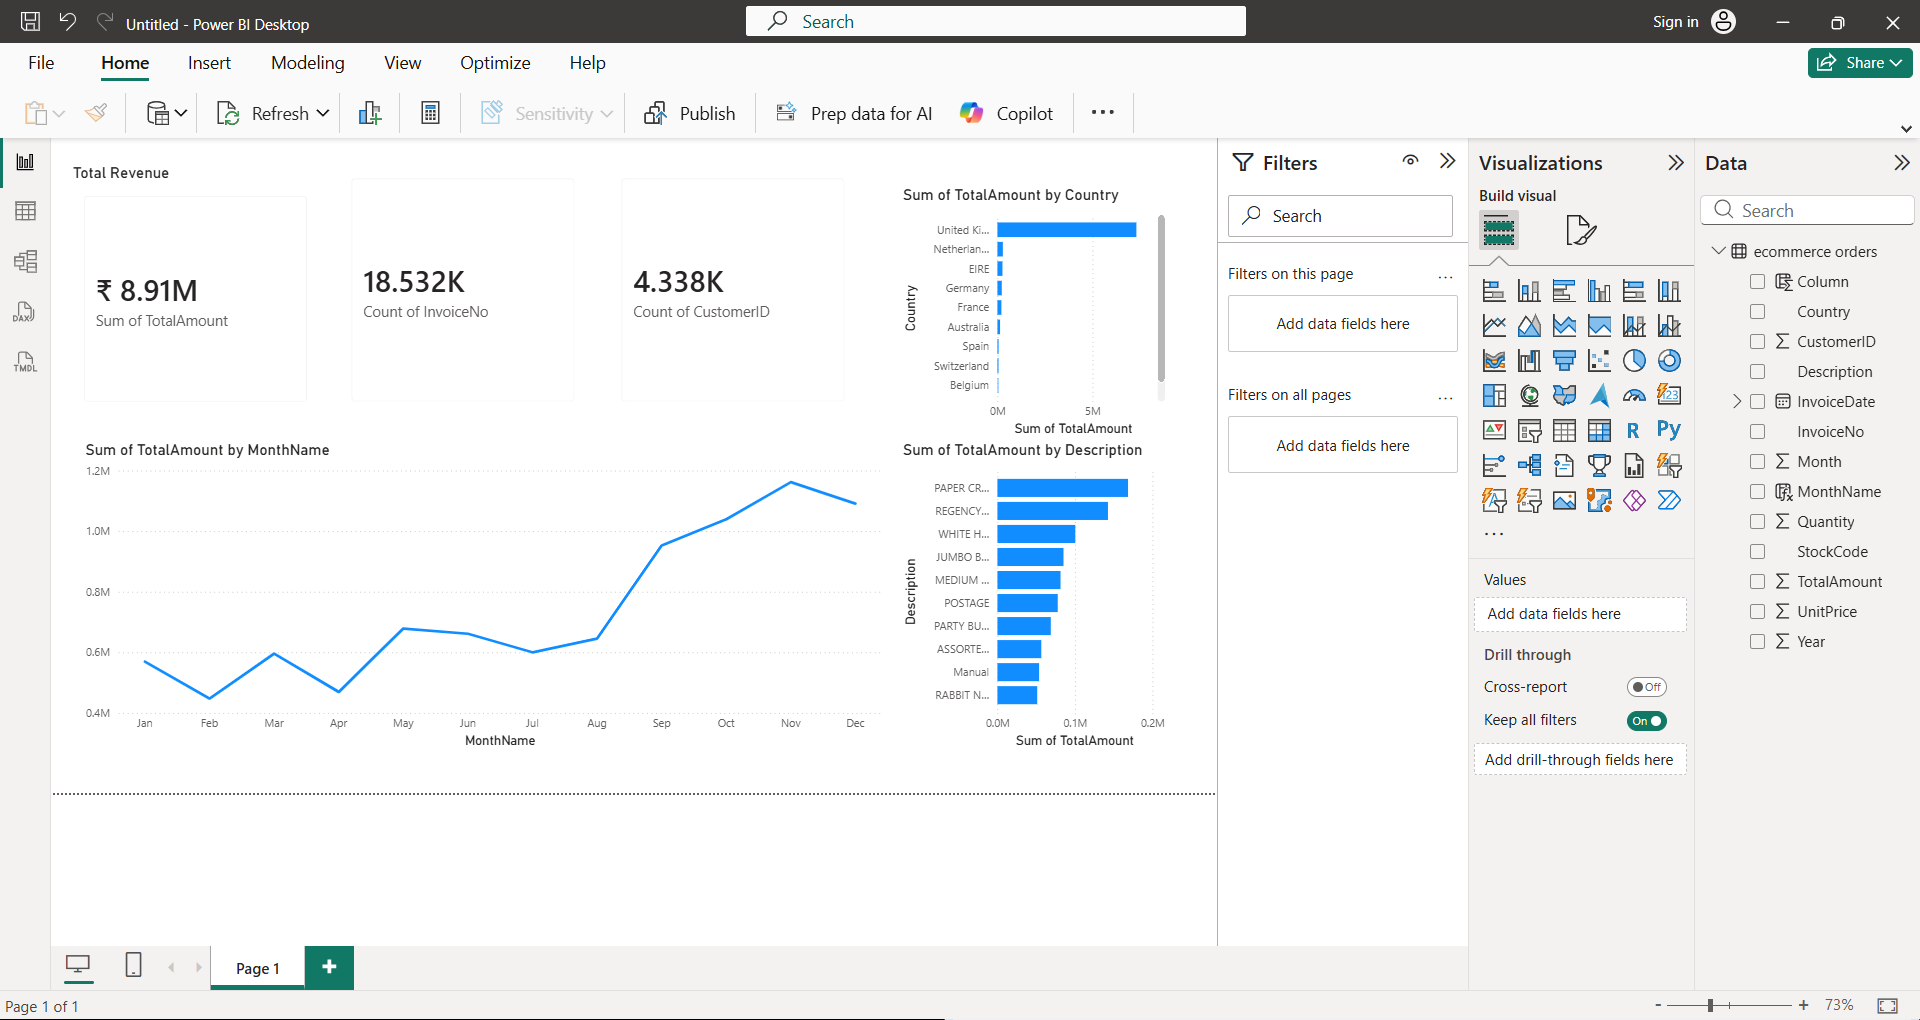

This screenshot's page, from the dashboard's own definition file:
{"tool":"powerbi","page":{"name":"Page 1","canvas":[1280,720],"ordinal":0},"visuals":[{"type":"cardVisual","title":"Total Revenue","fields":{"Data":["Sum(ecommerce orders.TotalAmount)"]},"box":[19.2,27.4,279.9,279.9],"z":0},{"type":"cardVisual","fields":{"Data":["Count(ecommerce orders.InvoiceNo)"]},"box":[312.9,27.4,279.9,279.9],"z":1000},{"type":"cardVisual","fields":{"Data":["Count(ecommerce orders.CustomerID)"]},"box":[609.3,27.4,279.9,279.9],"z":2000},{"type":"lineChart","fields":{"Category":["ecommerce orders.MonthName"],"Y":["Sum(ecommerce orders.TotalAmount)"]},"box":[32.9,332.1,883.7,343.1],"z":3000},{"type":"clusteredBarChart","fields":{"Category":["ecommerce orders.Country"],"Y":["Sum(ecommerce orders.TotalAmount)"]},"box":[930.4,52.1,297.8,279.9],"z":3001},{"type":"clusteredBarChart","fields":{"Y":["Sum(ecommerce orders.TotalAmount)"],"Category":["ecommerce orders.Description"]},"box":[930,332,298,343],"z":3002}]}

Visuals, with their boxes on the page's 1280x720 design canvas (x1, y1, x2, y2). These are canvas units, not pixel positions in the 1920x1020 screenshot, which may show the page scaled, cropped or inside an application window:
"Total Revenue" cardVisual: 19 27 299 307
cardVisual - Count(ecommerce orders.InvoiceNo): 313 27 593 307
cardVisual - Count(ecommerce orders.CustomerID): 609 27 889 307
lineChart - ecommerce orders.MonthName x Sum(ecommerce orders.TotalAmount): 33 332 917 675
clusteredBarChart - ecommerce orders.Country x Sum(ecommerce orders.TotalAmount): 930 52 1228 332
clusteredBarChart - Sum(ecommerce orders.TotalAmount) x ecommerce orders.Description: 930 332 1228 675
